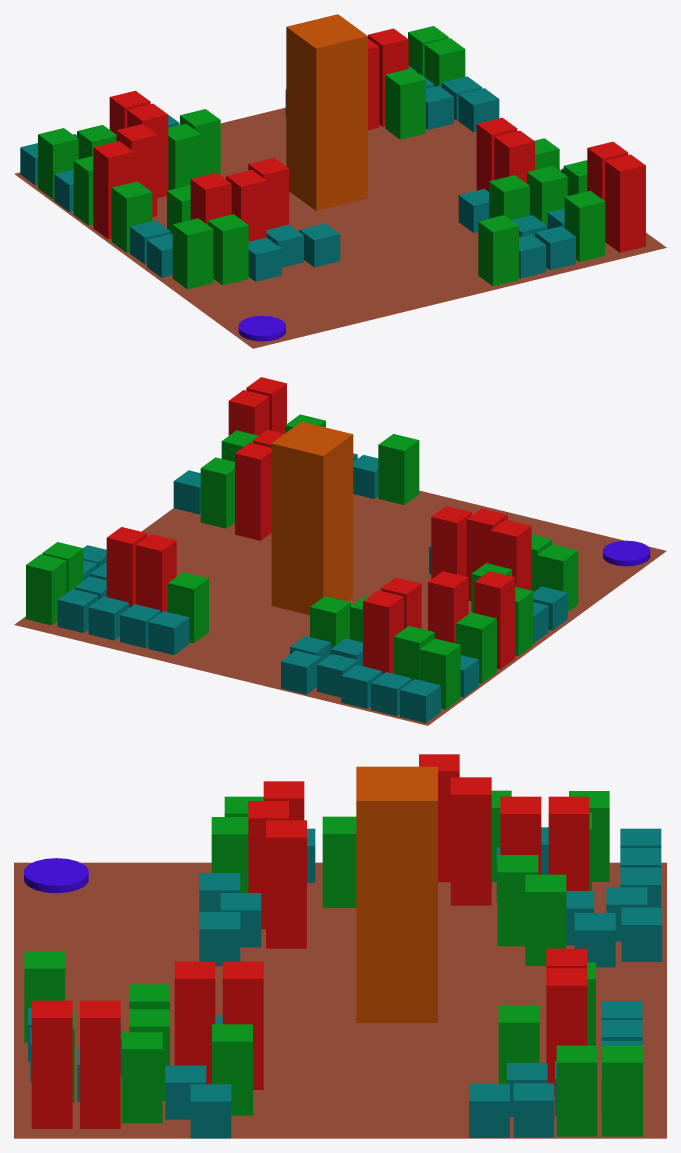
Rendered from Blockout_chloe(1).FBX.
3 renders of one model, top to bottom at view 1: azimuth 30°, elevation 25°; view 2: azimuth 150°, elevation 25°; view 3: azimuth 270°, elevation 25°, orthographic. The views are drawn at different scales.
Visible parts, largest first — view 1: Ground, Monument, redBuilding012, greenBuilding004, greenBuilding009, greenBuilding016, redBuilding004, greenBuilding018, greenBuilding005, greenBuilding022, redBuilding006, greenBuilding (+35 smaller); view 2: Ground, Monument, redBuilding010, redBuilding001, greenBuilding016, redBuilding004, redBuilding008, greenBuilding007, redBuilding007, redBuilding003, greenBuilding010, redBuilding009 (+33 smaller); view 3: Ground, Monument, redBuilding003, redBuilding012, redBuilding013, redBuilding007, redBuilding011, greenBuilding017, greenBuilding008, greenBuilding007, redBuilding001, redBuilding009 (+37 smaller).
Boxes of the visible parts, x1,y1,x2,y2 form: Ground: [14, 107, 666, 348]; Monument: [286, 14, 367, 210]; redBuilding012: [605, 154, 645, 252]; greenBuilding004: [172, 218, 213, 289]; greenBuilding009: [385, 68, 425, 139]; greenBuilding016: [478, 215, 518, 286]; redBuilding004: [93, 141, 133, 239]; greenBuilding018: [564, 190, 605, 261]; greenBuilding005: [207, 214, 248, 285]; greenBuilding022: [111, 181, 152, 252]; redBuilding006: [226, 169, 266, 241]; greenBuilding: [38, 128, 78, 199]; Ground: [14, 490, 666, 725]; Monument: [271, 421, 353, 615]; redBuilding010: [235, 442, 271, 540]; redBuilding001: [363, 590, 403, 674]; greenBuilding016: [378, 434, 419, 504]; redBuilding004: [474, 571, 515, 669]; redBuilding008: [136, 534, 176, 612]; greenBuilding007: [26, 554, 66, 625]; redBuilding007: [431, 506, 471, 578]; redBuilding003: [428, 571, 468, 643]; greenBuilding010: [200, 457, 234, 528]; redBuilding009: [106, 527, 147, 607]; Ground: [14, 862, 666, 1138]; Monument: [356, 766, 437, 1022]; redBuilding003: [450, 777, 491, 905]; redBuilding012: [31, 1000, 72, 1128]; redBuilding013: [80, 1000, 120, 1128]; redBuilding007: [266, 820, 306, 948]; redBuilding011: [174, 961, 215, 1084]; greenBuilding017: [121, 1032, 162, 1123]; greenBuilding008: [556, 1045, 597, 1136]; greenBuilding007: [602, 1045, 642, 1136]; redBuilding001: [548, 796, 589, 890]; redBuilding009: [546, 968, 587, 1096].
Bounding box in the file's own units: 31496 × 11811 × 31496.
